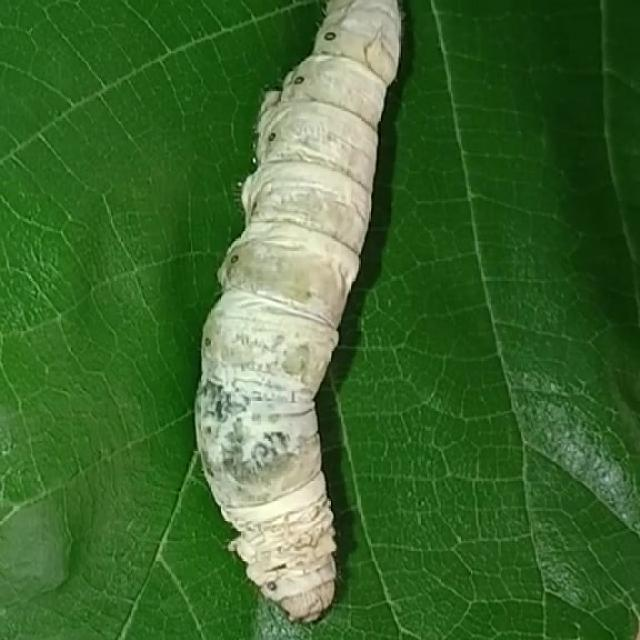Grasserie: (184, 0, 416, 640)
